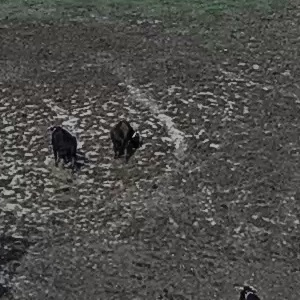cow: (37, 117, 87, 179), (105, 112, 146, 164)
